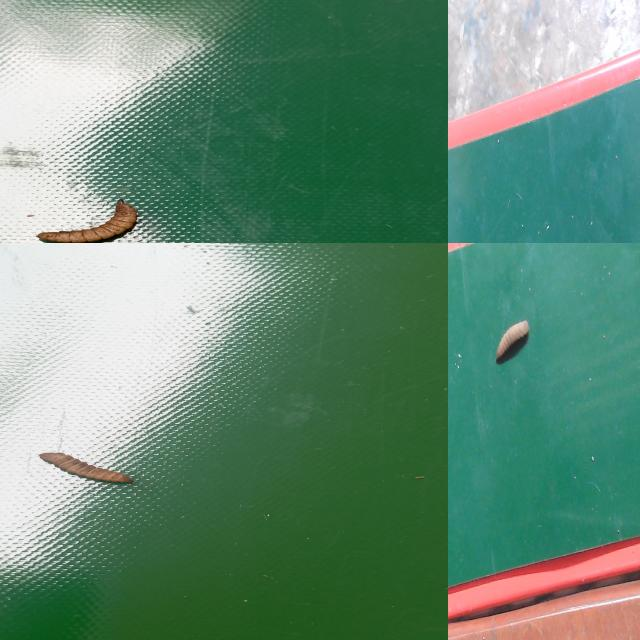Maggot: (38, 203, 138, 243), (38, 452, 132, 487), (493, 320, 531, 366)
